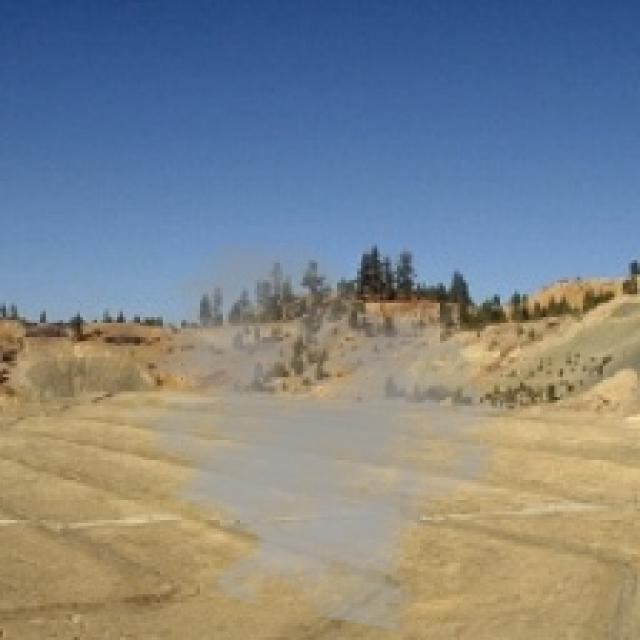Smoke: (100, 235, 520, 634)
